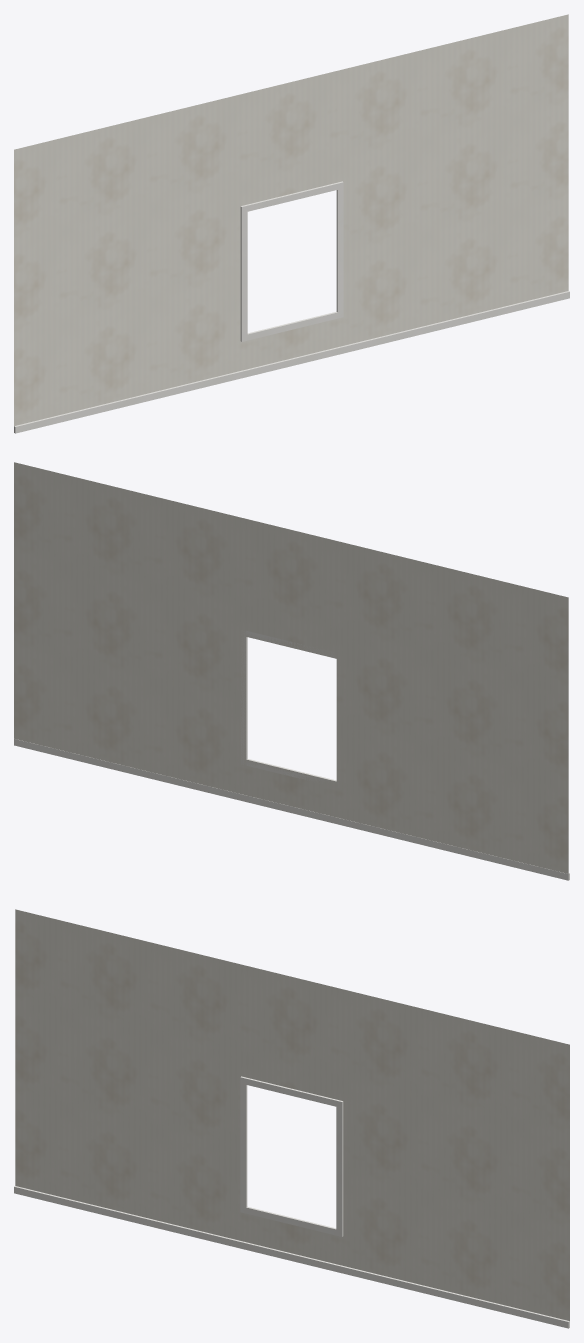
The picture shows the model from 3 angles, top to bottom: view 1: azimuth 30°, elevation 25°; view 2: azimuth 150°, elevation 25°; view 3: azimuth 330°, elevation 25°; orthographic projection.
Visible parts, largest first — view 1: jx_wm_12_36756fb8; view 2: jx_wm_12_36756fb8; view 3: jx_wm_12_36756fb8.
Boxes of the visible parts, x1,y1,x2,y2 form: jx_wm_12_36756fb8: (14, 14, 569, 433); jx_wm_12_36756fb8: (14, 462, 569, 880); jx_wm_12_36756fb8: (14, 909, 569, 1328).
Size of the model in its own units: 12.3 by 6 by 0.05.
Materials: 2 (2 with a texture image).
